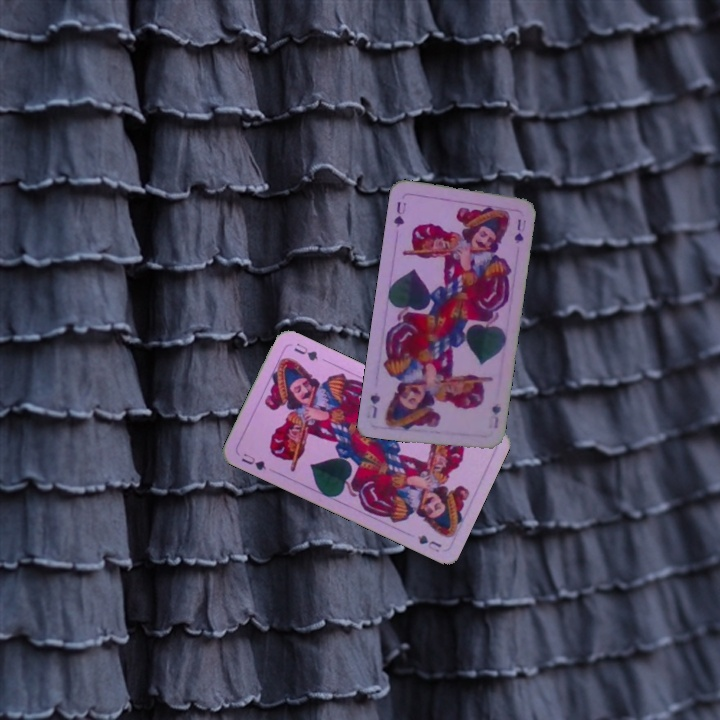GU: (237, 449, 269, 473), (389, 198, 409, 230), (484, 399, 504, 431)
